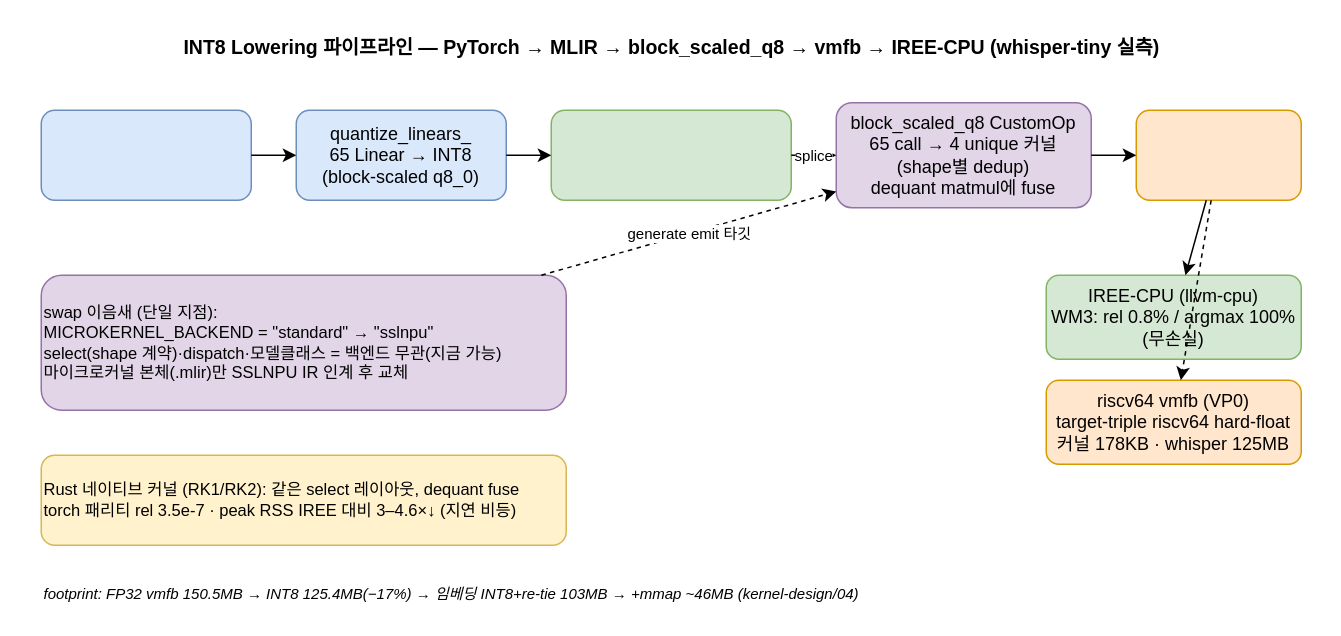
The diagram is 1341 pixels wide and 636 high, and some of its shapes have lost their labels. The box of each missing label's shape, as (x1, y1, x2, y2) in pixels:
iree-compile → .vmfb: (1135, 109, 1301, 200)
PyTorch nn.Module (WhisperForwardOnly, eager attn): (40, 109, 251, 200)
torch.export / iree.turbine → torch dialect MLIR server_side_op_hits {}: (550, 109, 791, 200)
